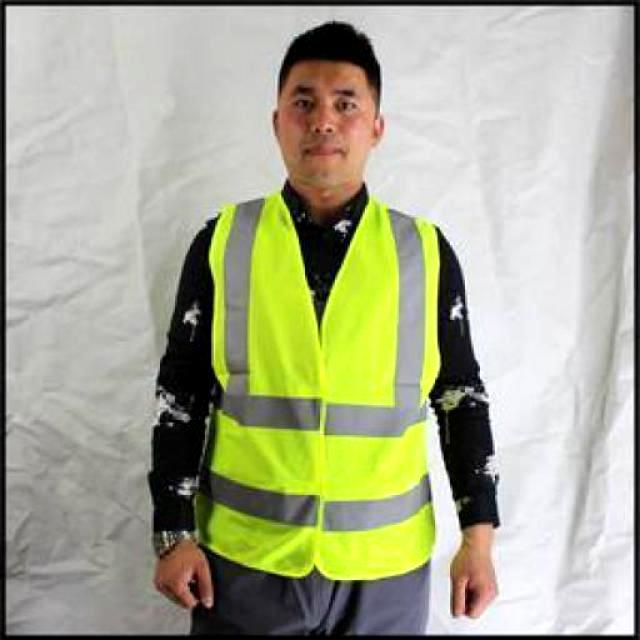no_head_wear: (279, 22, 379, 109)
person: (149, 21, 496, 632)
